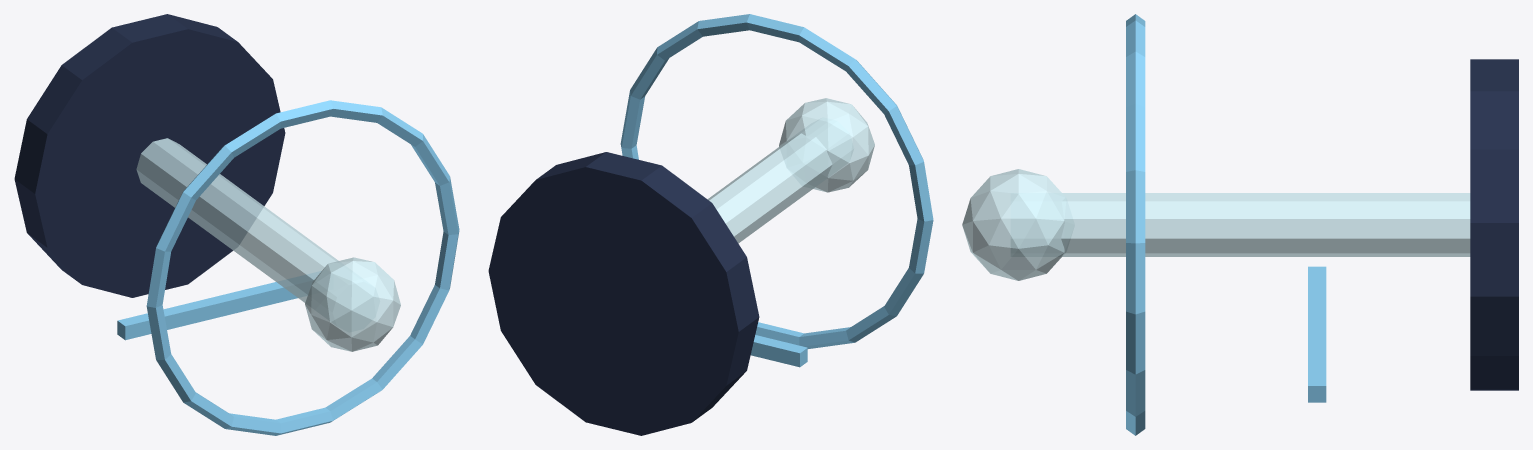
The model's file is 08_support_npc_assist_marker.glb.
The picture shows the model from 3 angles, left to right: view 1: azimuth 30°, elevation 25°; view 2: azimuth 150°, elevation 25°; view 3: azimuth 270°, elevation 25°; orthographic projection. The views are drawn at different scales.
Visible parts, largest first — view 1: assist_beacon_base, support_lock_ring, assist_column, npc_signal_core, support_direction_marker; view 2: assist_beacon_base, support_lock_ring, assist_column, npc_signal_core, support_direction_marker; view 3: assist_column, assist_beacon_base, npc_signal_core, support_lock_ring, support_direction_marker.
Boxes of the visible parts, box(x1,y1,x2,y2) form: assist_beacon_base: box(14, 14, 285, 297); support_lock_ring: box(146, 100, 459, 435); assist_column: box(136, 138, 338, 302); npc_signal_core: box(305, 257, 400, 351); support_direction_marker: box(117, 271, 320, 340); assist_beacon_base: box(488, 152, 759, 435); support_lock_ring: box(620, 14, 933, 348); assist_column: box(707, 133, 832, 243); npc_signal_core: box(779, 98, 874, 192); support_direction_marker: box(750, 335, 807, 367); assist_column: box(1061, 193, 1470, 256); assist_beacon_base: box(1470, 59, 1518, 390); npc_signal_core: box(962, 169, 1065, 280); support_lock_ring: box(1126, 14, 1145, 435); support_direction_marker: box(1308, 266, 1326, 402).
Size of the model in its own units: 1.05 by 1.03 by 1.38.
